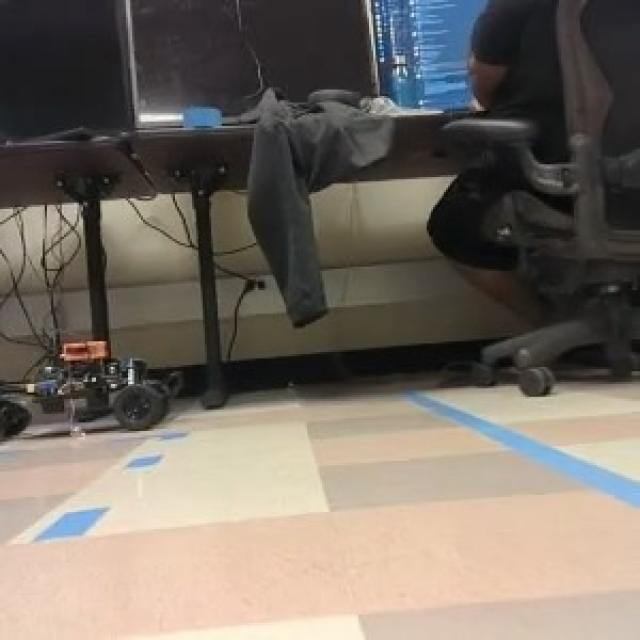obstacle: (0, 340, 172, 434)
